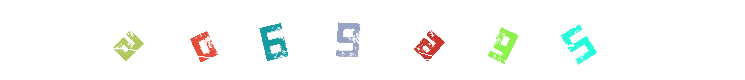5: (539, 0, 619, 80)
6: (284, 0, 364, 80)
9: (306, 0, 386, 80)
A: (139, 0, 219, 80), (333, 0, 413, 80)
G: (464, 0, 544, 80)
O: (232, 0, 312, 80)
